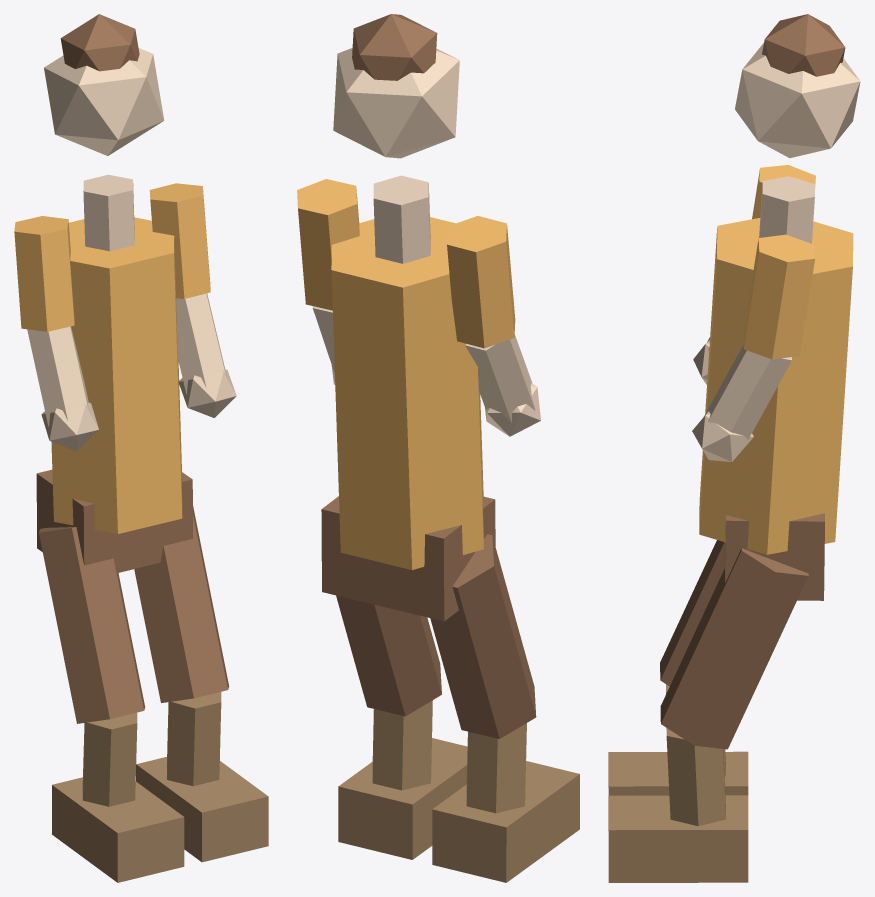
The model's file is pose_hit_light_18.glb.
The picture shows the model from 3 angles, left to right: view 1: azimuth 30°, elevation 25°; view 2: azimuth 150°, elevation 25°; view 3: azimuth 270°, elevation 25°; orthographic projection. The views are drawn at different scales.
Visible parts, largest first — view 1: pose; view 2: pose; view 3: pose.
Boxes of the visible parts, bbox=[...] form: pose: bbox=[14, 14, 268, 882]; pose: bbox=[297, 14, 579, 882]; pose: bbox=[608, 14, 860, 882].
Size of the model in its own units: 0.3962 by 1.57 by 0.4324.
